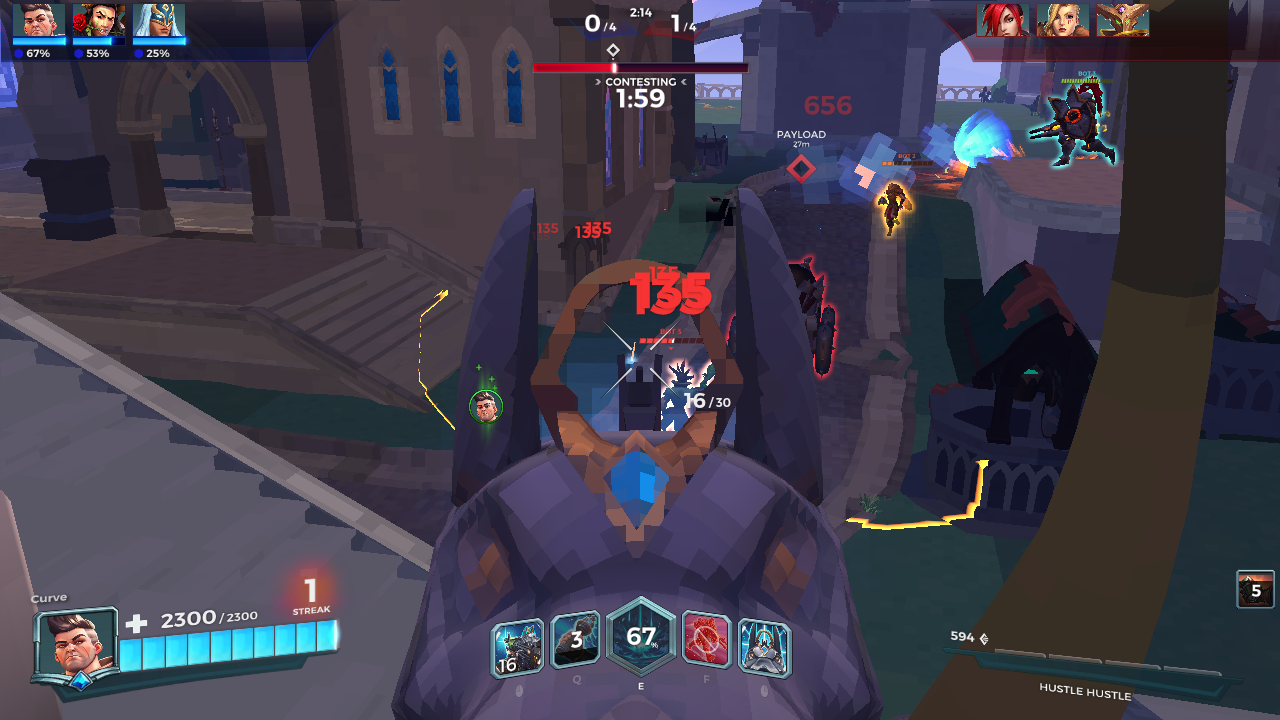model: (875, 177, 901, 230), (666, 361, 685, 424)
